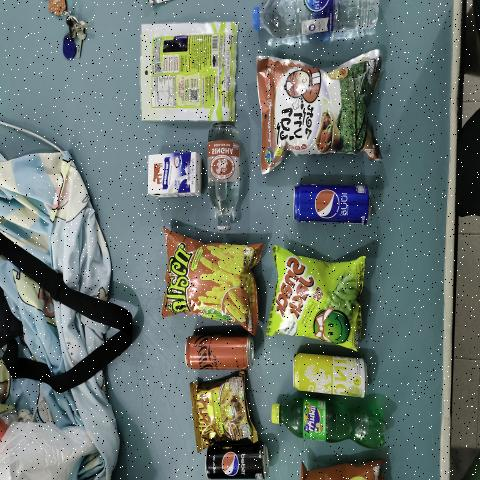coke_red: (186, 335, 259, 372)
crystal: (250, 0, 386, 44)
fanta_green: (270, 400, 397, 441)
mama: (197, 374, 247, 455)
pepsi_black: (202, 453, 274, 479)
pepsi_blue: (292, 183, 372, 230)
singha_soda: (209, 128, 240, 234)
singha_yellow: (293, 350, 369, 399)
snack_jack: (274, 246, 370, 339)
taokaenoi: (261, 62, 374, 161)
thai_denmark: (147, 152, 202, 200)
twisco: (162, 241, 262, 323)
